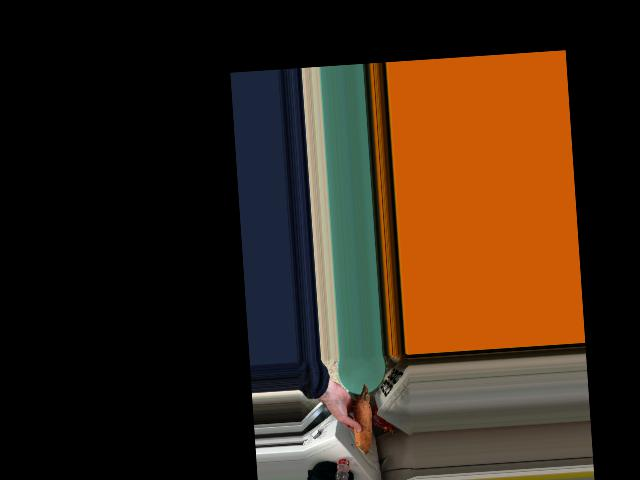sweet_potato: (346, 385, 373, 446)
